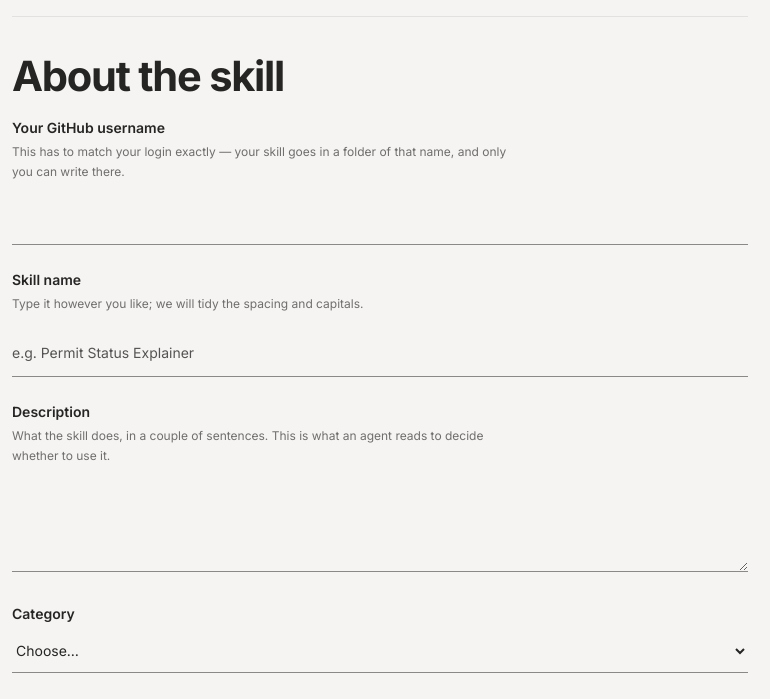
Scenario: Submit — the skill name › shows what the name became, rather than silently changing it
(page scrolled)
Type "Permit Status Explainer" into the field labelled "Skill name" at [380, 353], box [12,330,748,377]
(page scrolled)
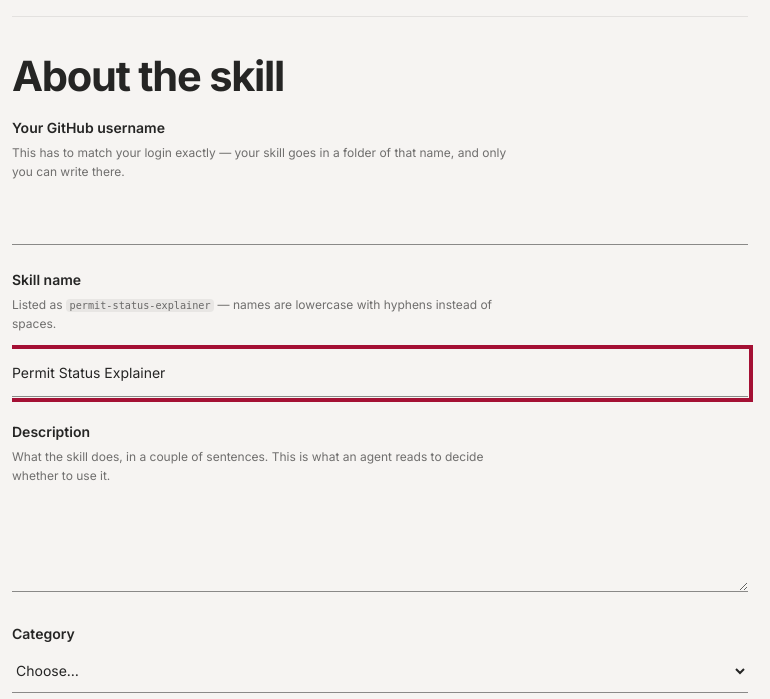
Result: the text "permit-status-explainer" is shown at [66,298,214,312]
